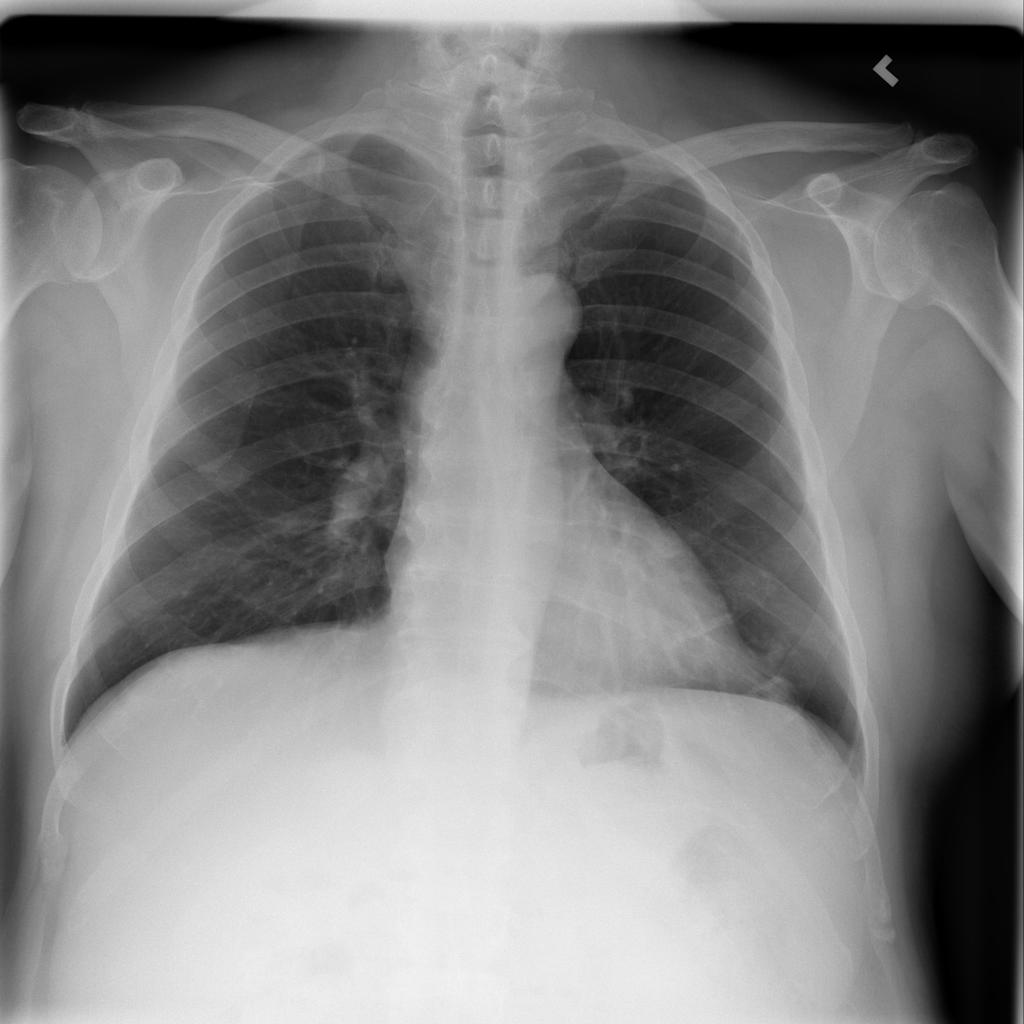nodule: (735, 649, 813, 720), (745, 618, 802, 668)
